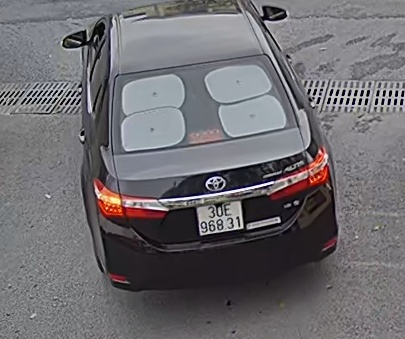vehicle plate: (189, 199, 250, 237)
